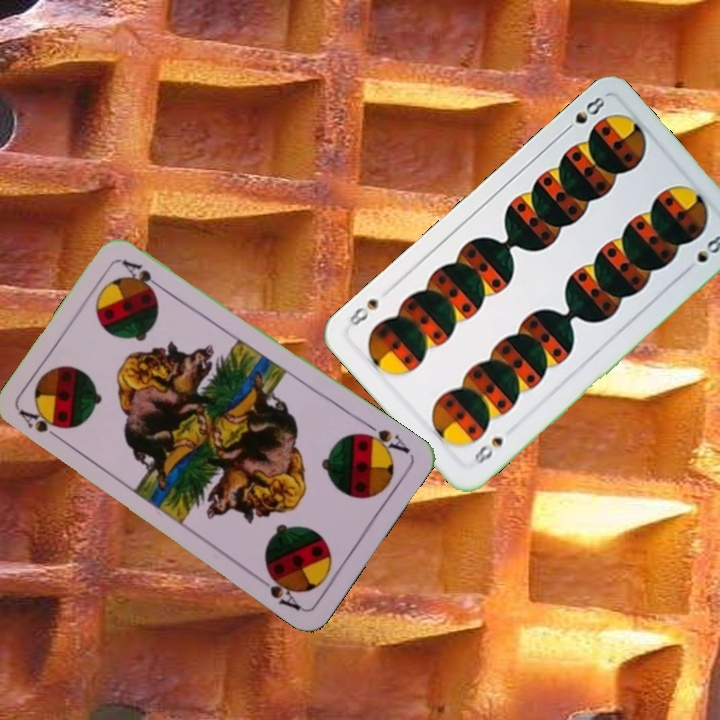S8: (558, 92, 608, 137), (470, 433, 506, 468)
SA: (354, 418, 413, 459), (15, 406, 68, 446)
